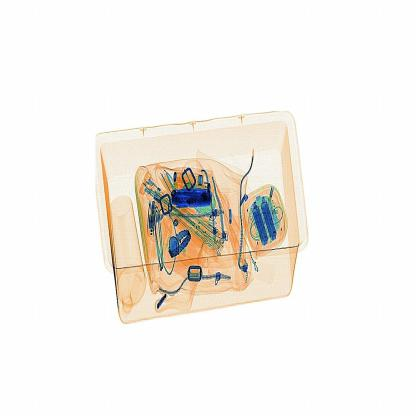scissors: (169, 181, 220, 217)
